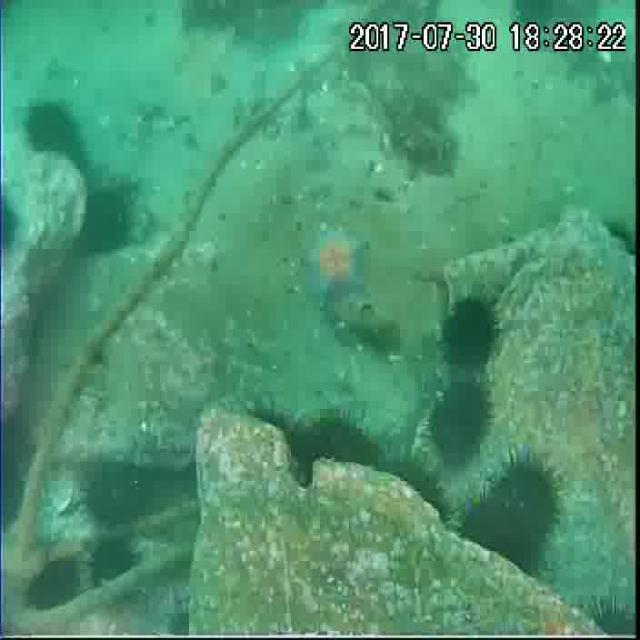echinus: (461, 480, 544, 578), (489, 448, 565, 539), (428, 379, 497, 472), (298, 406, 377, 481), (440, 291, 500, 376), (84, 456, 152, 526), (384, 457, 456, 521), (26, 101, 90, 170), (79, 187, 135, 254), (22, 552, 84, 611), (583, 589, 640, 640), (89, 531, 135, 589)
starfish: (301, 224, 369, 312)
